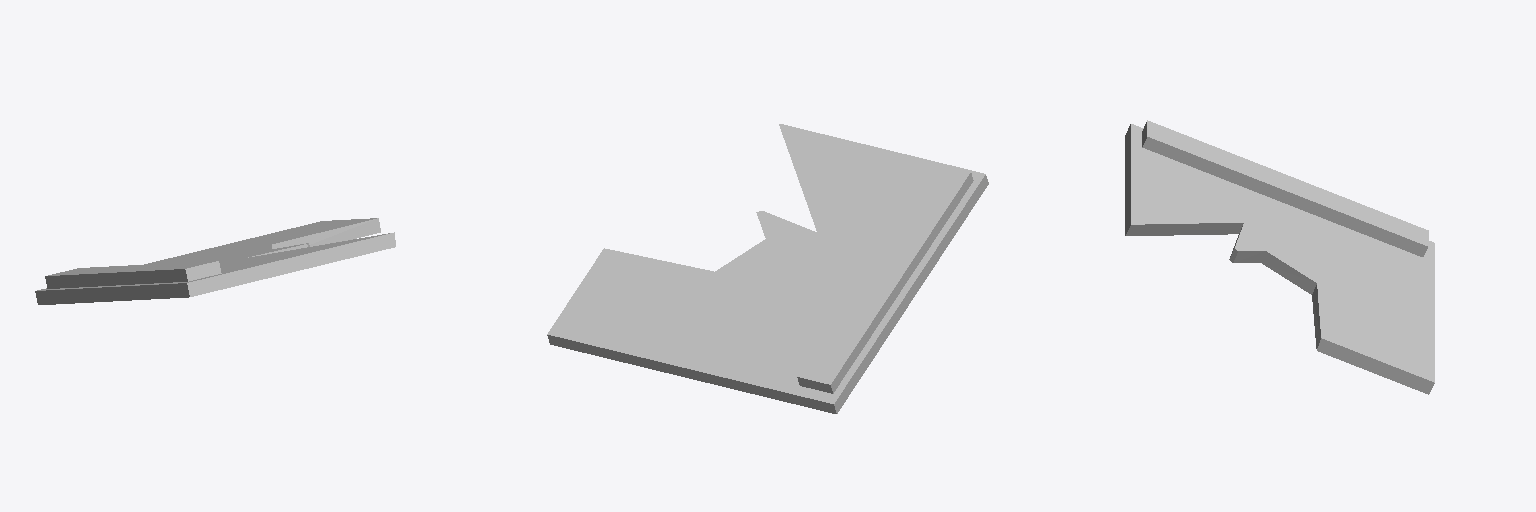
The model's file is Debris_Broken.obj.
3 renders of one model, left to right at view 1: azimuth 30°, elevation 25°; view 2: azimuth 150°, elevation 25°; view 3: azimuth 270°, elevation 25°, orthographic.
Parts seen in each view (by area): view 1: Debris_Broken; view 2: Debris_Broken; view 3: Debris_Broken.
Part boxes in pixels (x1,y1,x2,y2): Debris_Broken: (35, 218, 395, 304); Debris_Broken: (547, 124, 988, 413); Debris_Broken: (1125, 120, 1434, 394).
Size of the model in its own units: 2.7 by 1.24 by 2.53.